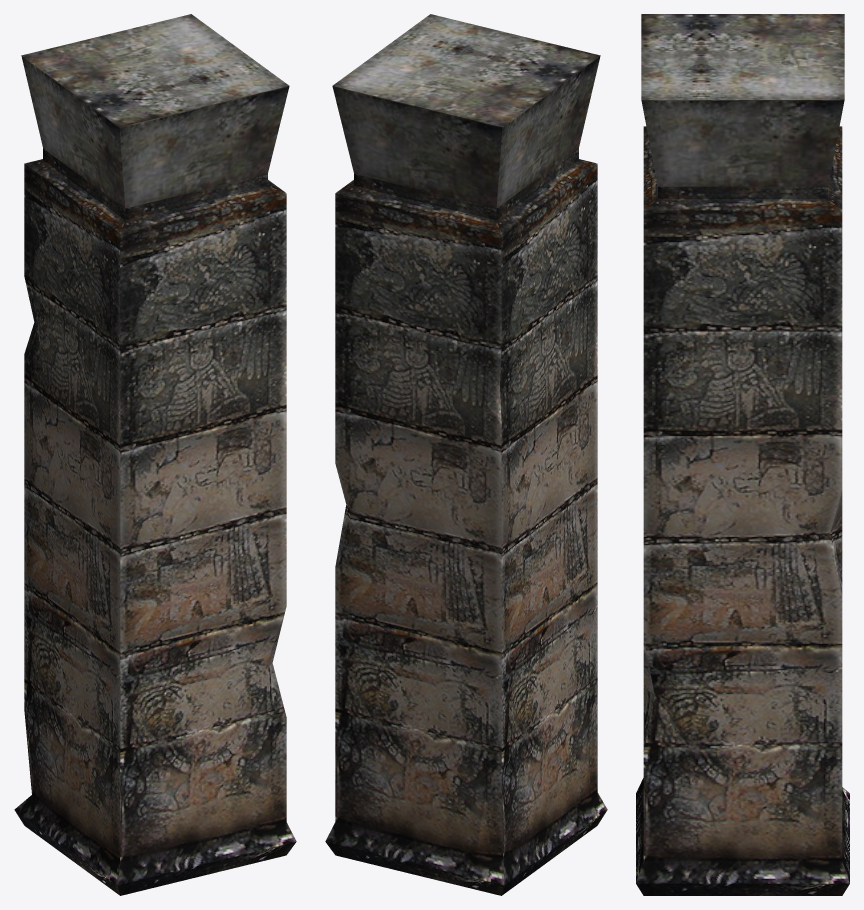
Rendered from Desert_obj04.FBX.
The picture shows the model from 3 angles, left to right: view 1: azimuth 30°, elevation 25°; view 2: azimuth 150°, elevation 25°; view 3: azimuth 270°, elevation 25°; orthographic projection. The views are drawn at different scales.
Parts seen in each view (by area): view 1: 01; view 2: 01; view 3: 01.
Part boxes in pixels (<box>): 01: <box>14,14,296,895</box>; 01: <box>325,14,607,895</box>; 01: <box>636,14,849,895</box>.
Bounding box in the file's own units: 115 × 474 × 115.
1 material, 1 textured.
